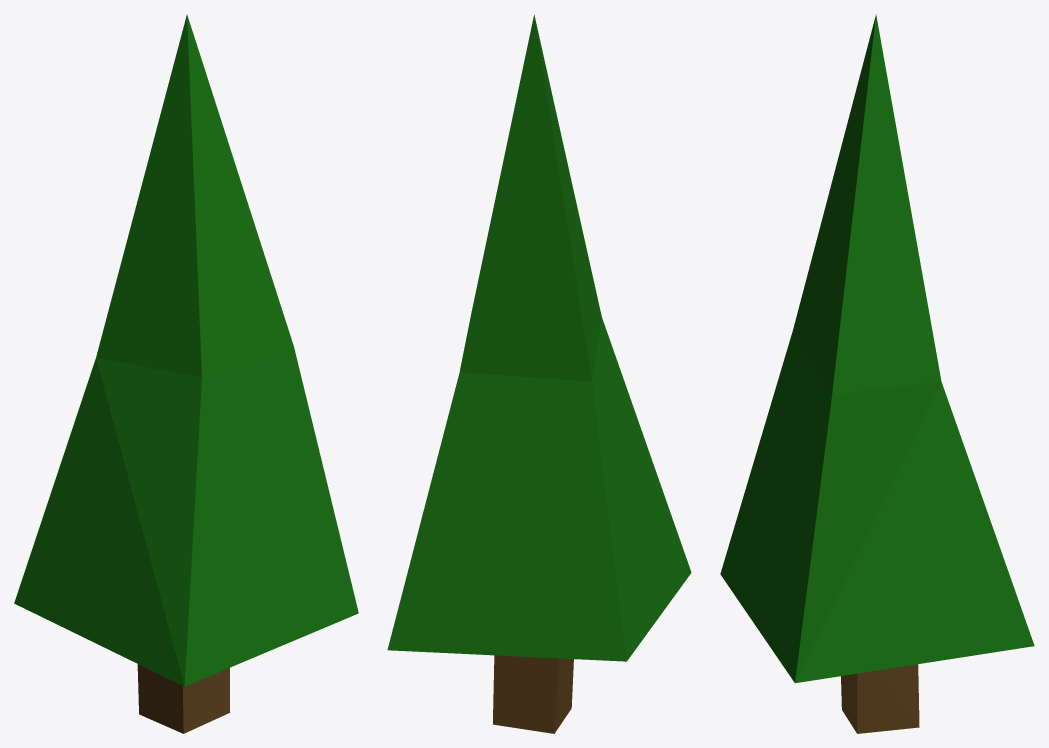
File: 240519_tree_fir_02.glb
3 renders of one model, left to right at view 1: azimuth 30°, elevation 25°; view 2: azimuth 150°, elevation 25°; view 3: azimuth 270°, elevation 25°, orthographic.
Parts seen in each view (by area): view 1: Cube.005; view 2: Cube.005; view 3: Cube.005.
Part boxes in pixels (x1,y1,x2,y2): Cube.005: (14,14,358,733); Cube.005: (387,14,691,733); Cube.005: (720,14,1034,733).
Size of the model in its own units: 2.18 by 5.53 by 2.23.
